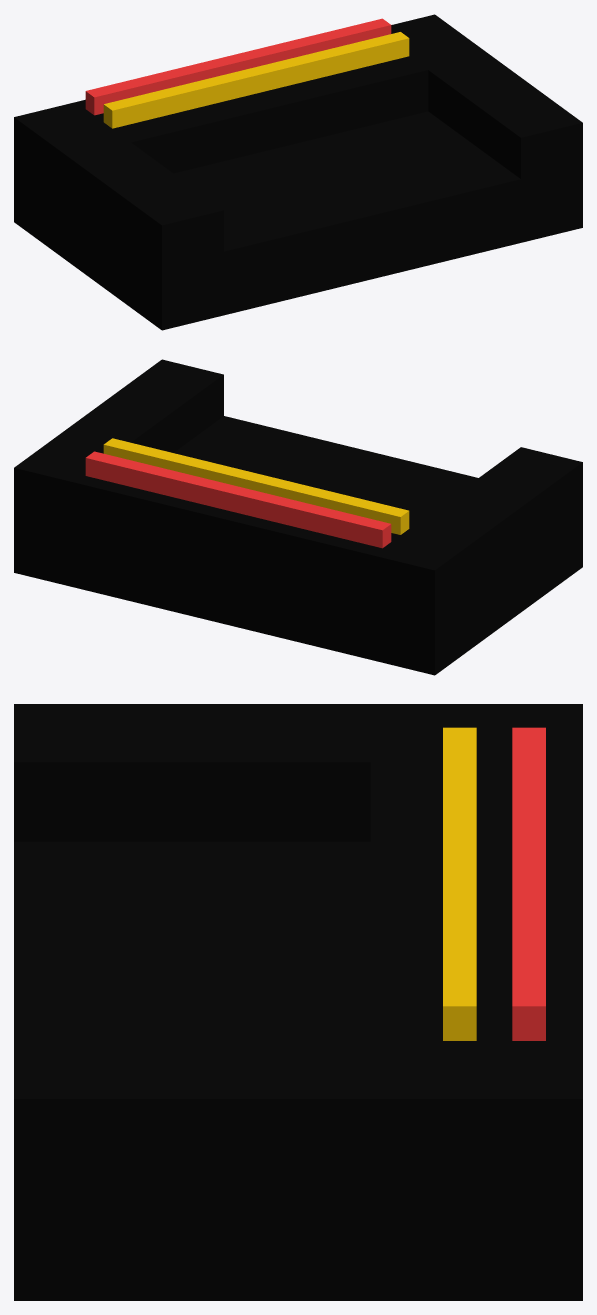
The model's file is cardgame.fbx.
3 renders of one model, top to bottom at view 1: azimuth 30°, elevation 25°; view 2: azimuth 150°, elevation 25°; view 3: azimuth 270°, elevation 25°, orthographic. The views are drawn at different scales.
Parts seen in each view (by area): view 1: Cube.002; view 2: Cube.002; view 3: Cube.002.
Boxes of the visible parts, box(x1,y1,x2,y2) form: Cube.002: box(14, 14, 582, 330); Cube.002: box(14, 359, 582, 675); Cube.002: box(14, 704, 582, 1300).
Bounding box in the file's own units: 94.09 × 26.28 × 57.3.
